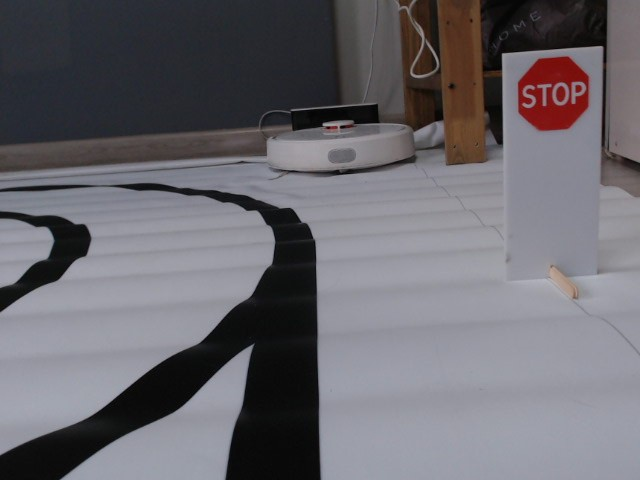Stop: (516, 55, 592, 133)
